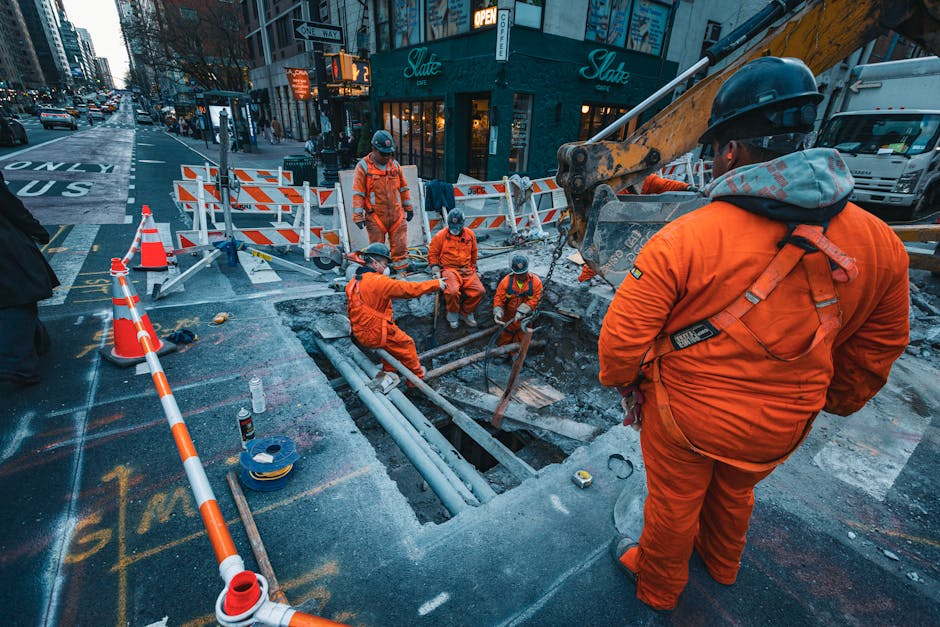traffic_cone: (99, 257, 176, 367), (132, 209, 169, 272), (121, 205, 152, 266)
